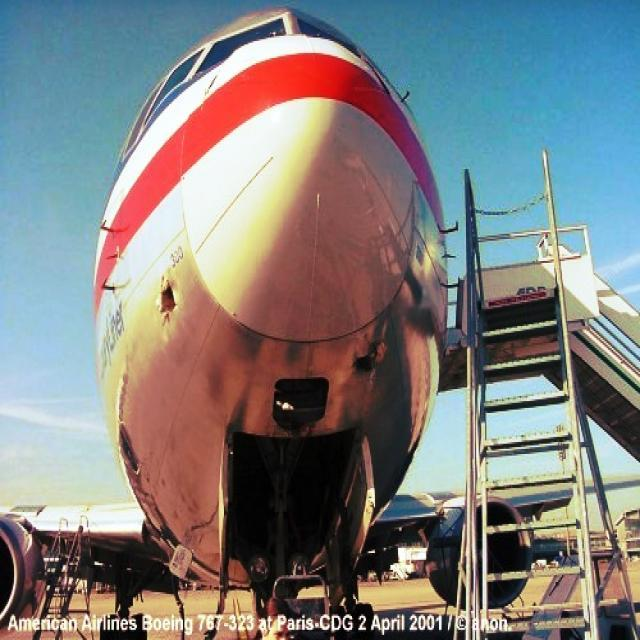dent: (357, 339, 392, 389), (158, 277, 188, 322)
